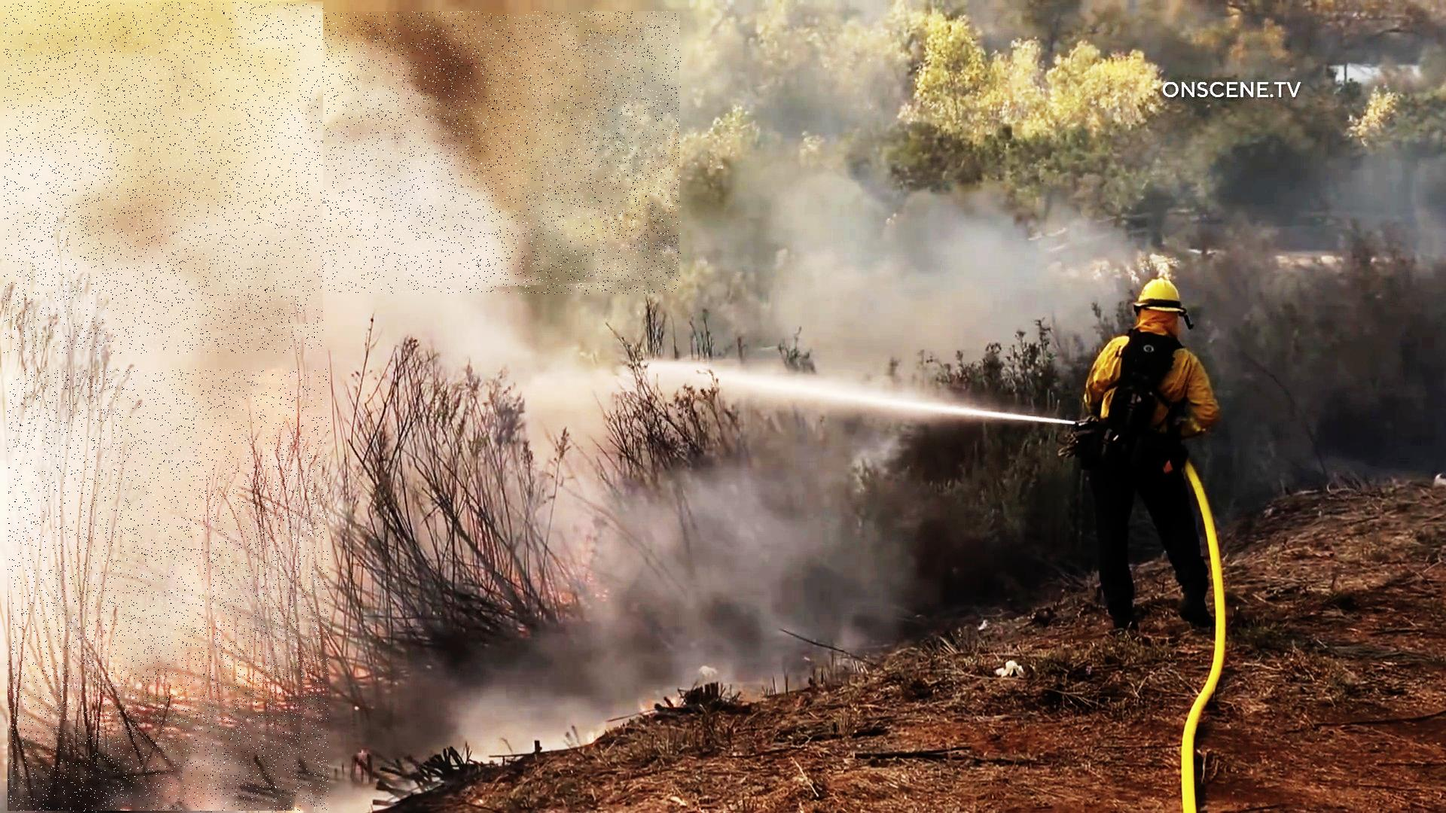fire: (8, 369, 329, 813)
smoke: (4, 2, 323, 354), (313, 11, 681, 294)
